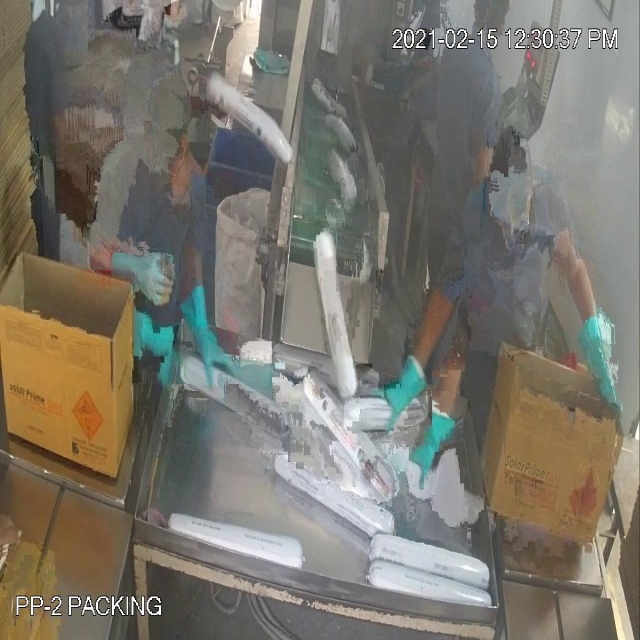Guantes: (103, 228, 174, 321), (575, 295, 620, 416), (184, 286, 231, 387), (408, 396, 455, 495), (374, 348, 426, 437)
